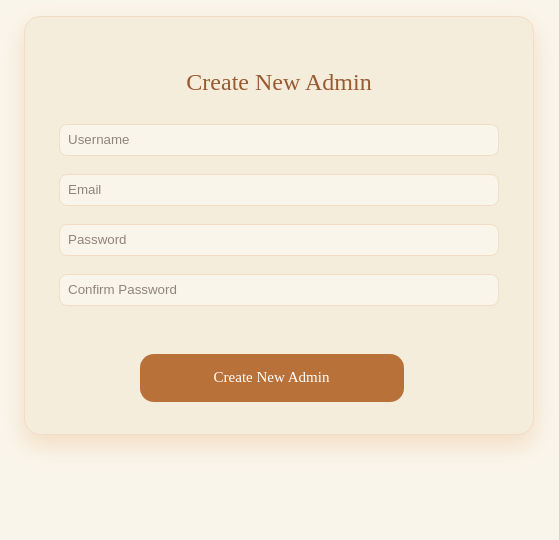
CreateNewAdminForm › shows Full name is required when name is empty and does not submit
Step 1. Type "Abcdef1234" into the password field with placeholder "Password" → (279, 240), box [59,224,499,256]
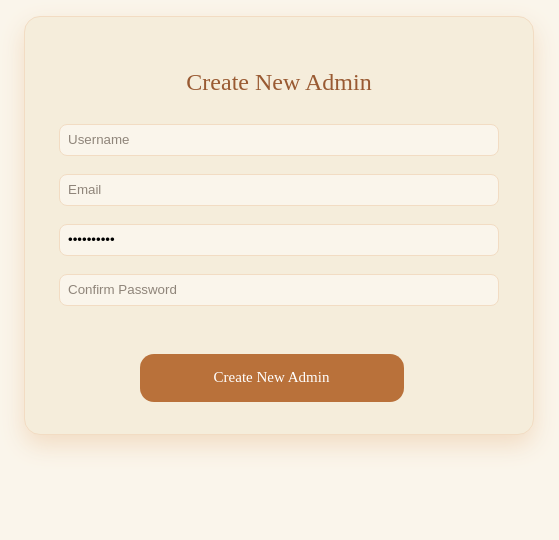
Step 2. Type "Abcdef1234" into the password field with placeholder "Confirm Password" → (279, 290), box [59,274,499,306]
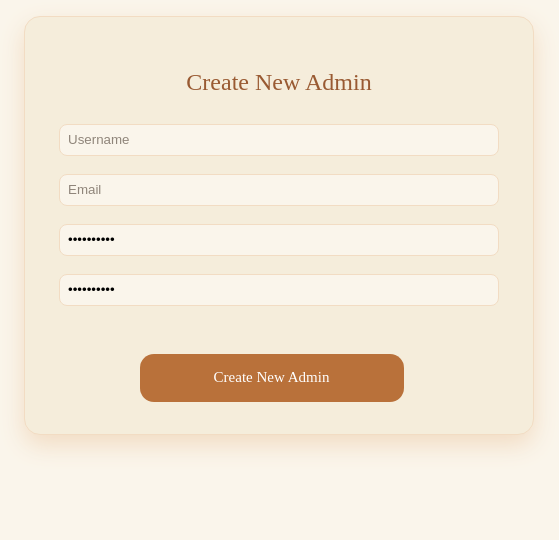
Step 3. Click the button "Create New Admin" → (272, 378), box [140,354,404,402]
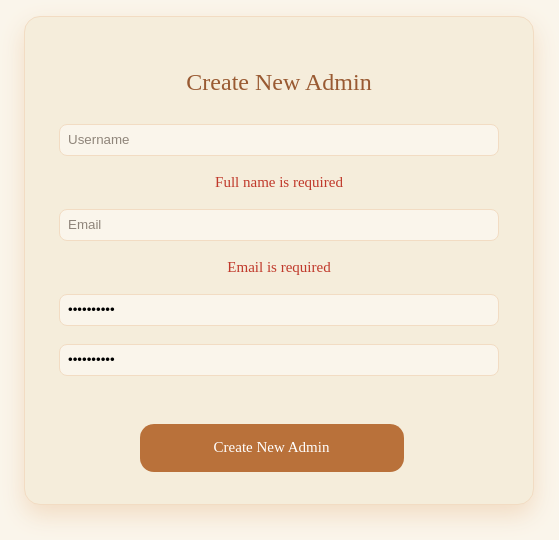
Expected: the text "Full name is required" is shown, [215,174,343,191]
